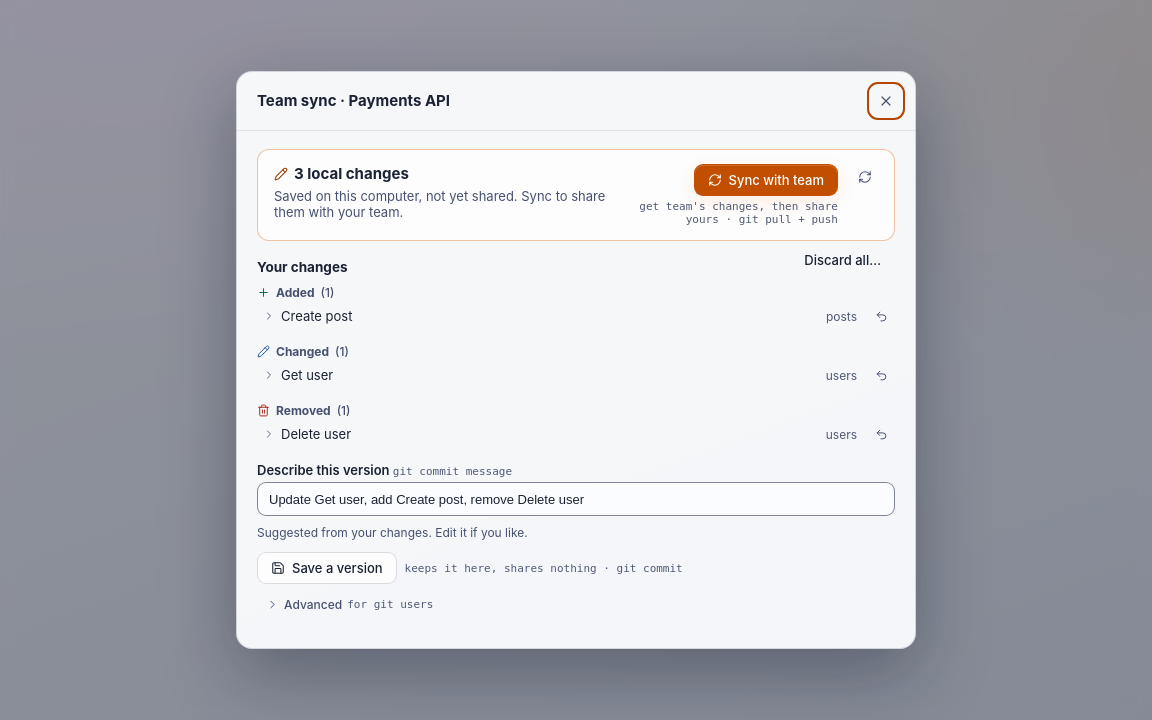
Test: Your changes › shows one request diff on click
Click the button "Get user users".
click(307, 375)  # box [257,361,863,389]
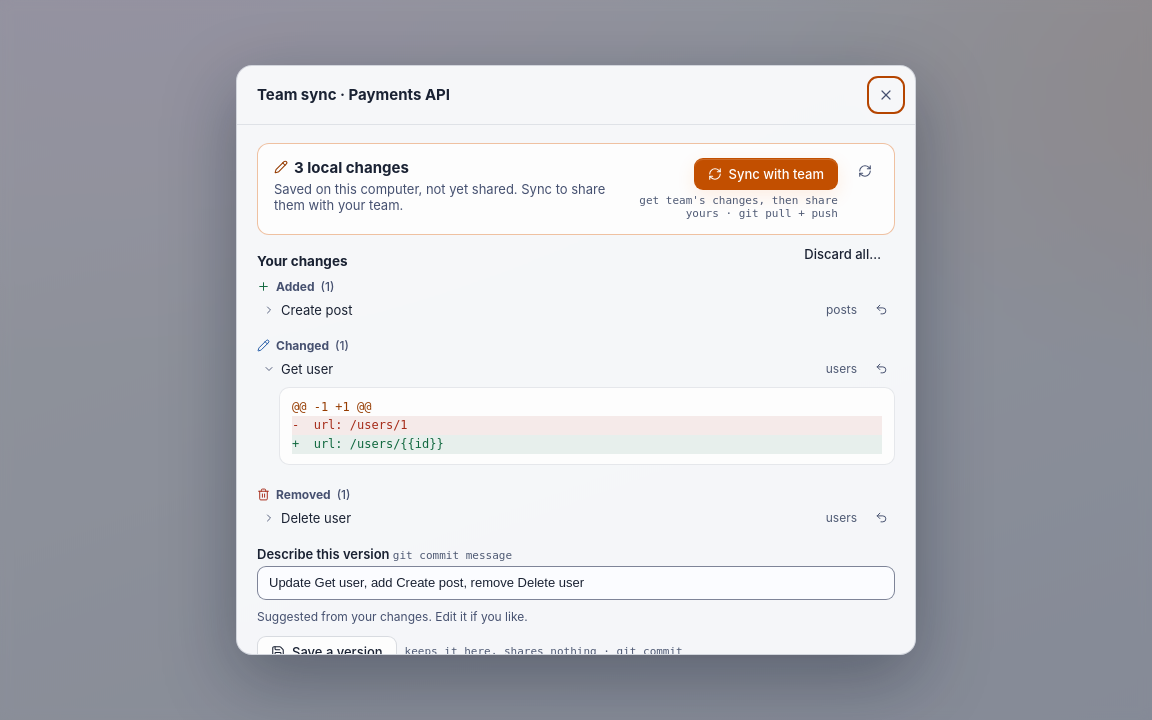
expect the button "Get user users" is expanded: met, box [257,355,863,383]
expect the element named "Changes in Get user" shows "/users/{{id}}": met, box [292,437,444,451]
